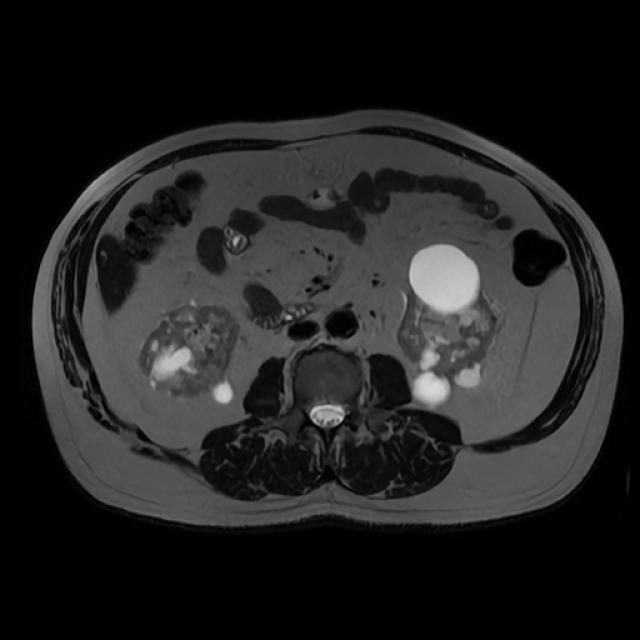sag: (137, 303, 241, 405)
sol: (396, 243, 499, 413)
